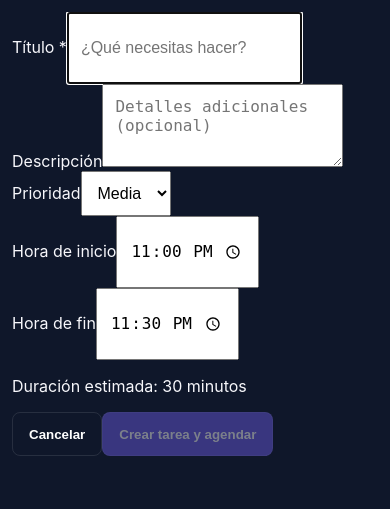
Scenario: planificación de tareas › rechaza intervalos que cruzan medianoche
Replace the text in the time field labelled "Hora de fin" with "01:00" at (167, 324), box [96,288,239,360]
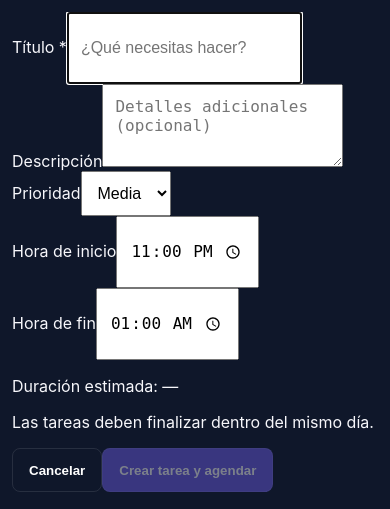
expect the button "Crear tarea y agendar" is disabled: met, box [102,448,273,492]
expect the message reads "Las tareas deben finalizar dentro del mismo día.": met, box [12,412,374,432]
